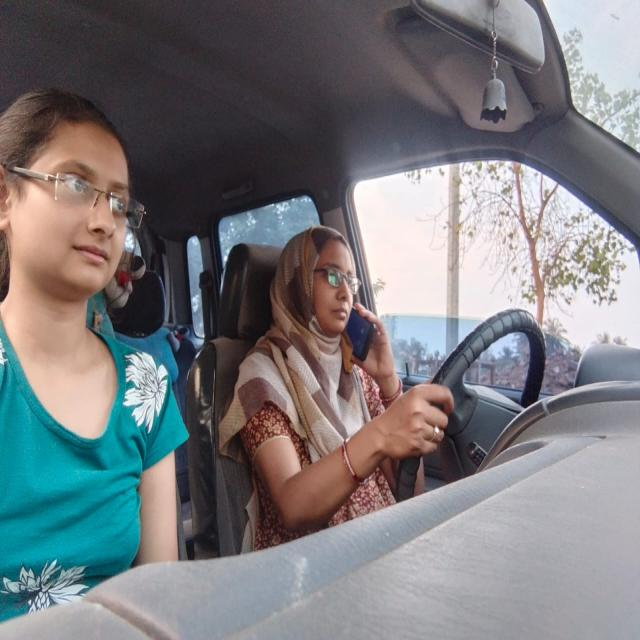mobile: (346, 303, 382, 367)
person: (6, 90, 139, 335), (272, 220, 356, 357)
